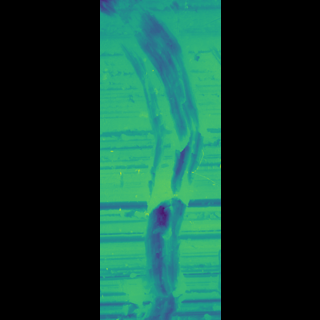Loch: (141, 3, 178, 320), (136, 0, 147, 29), (176, 42, 183, 70)
